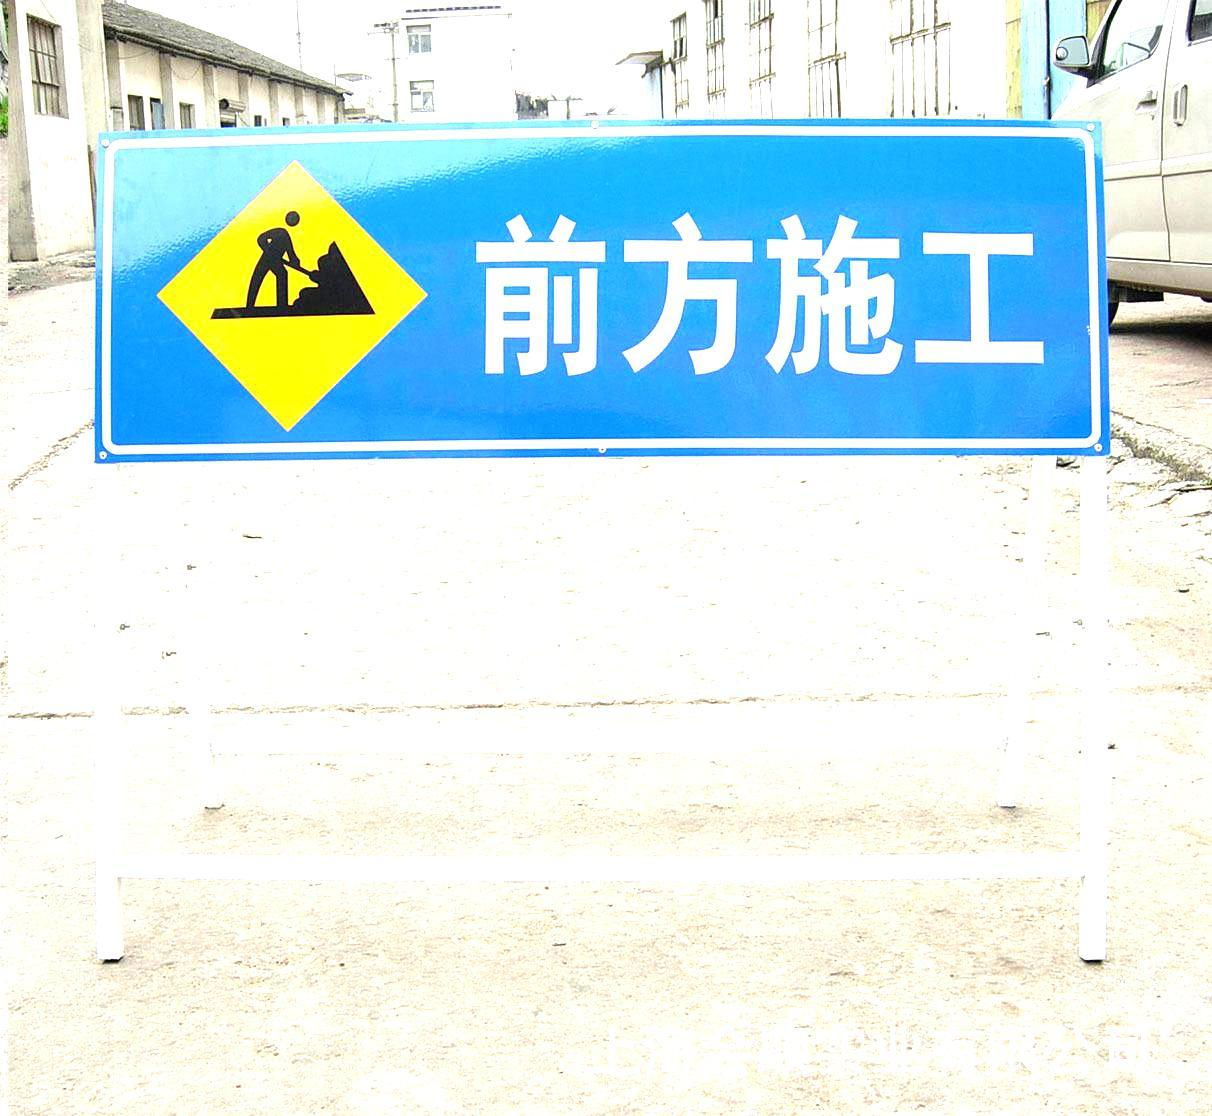sign: (101, 138, 1113, 456)
